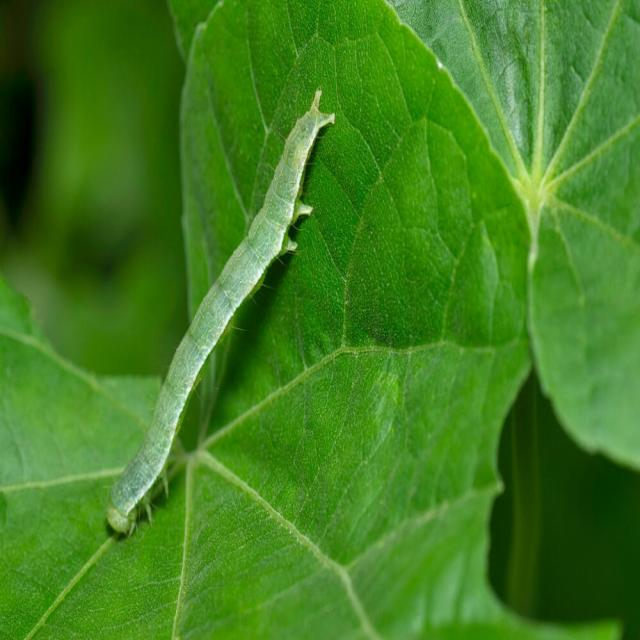looper: (98, 81, 338, 529)
